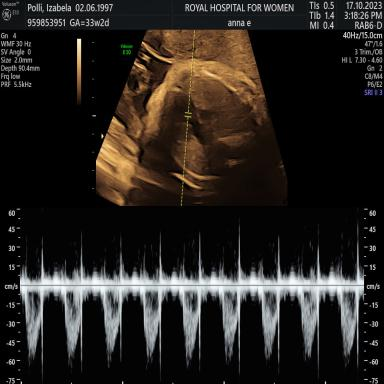Ultrasound-Waves: (26, 215, 360, 384)
